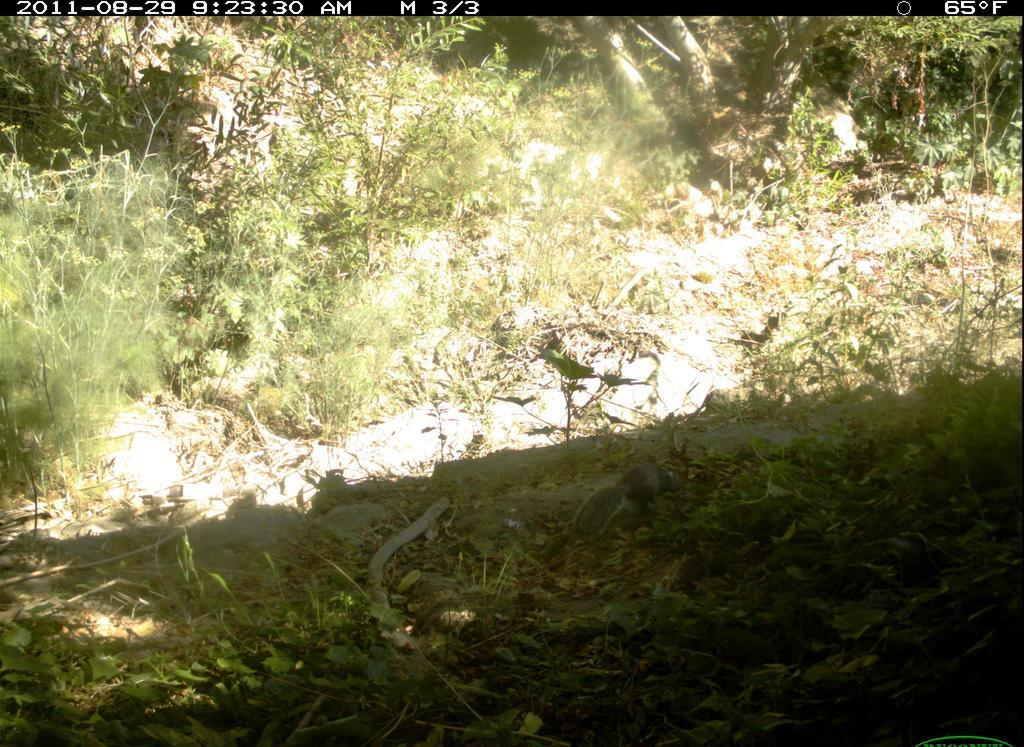squirrel: (562, 455, 694, 553)
